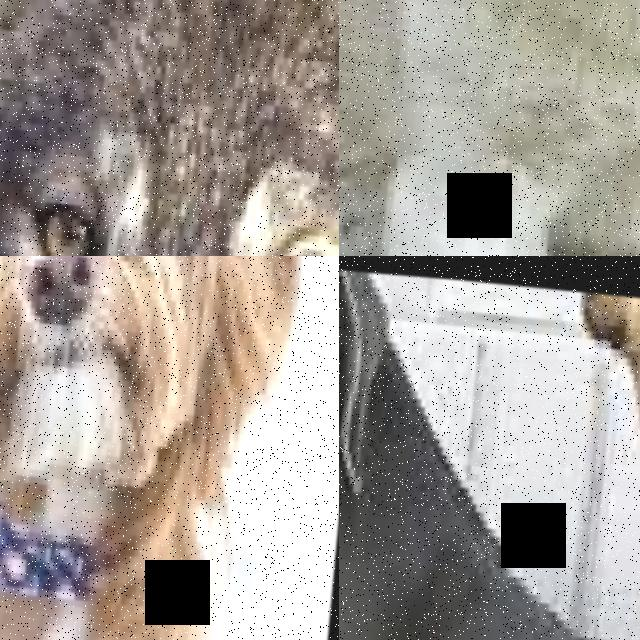dog: (0, 256, 339, 640), (339, 256, 640, 640), (339, 0, 640, 256), (511, 281, 640, 640)
wolf: (0, 0, 339, 256)
